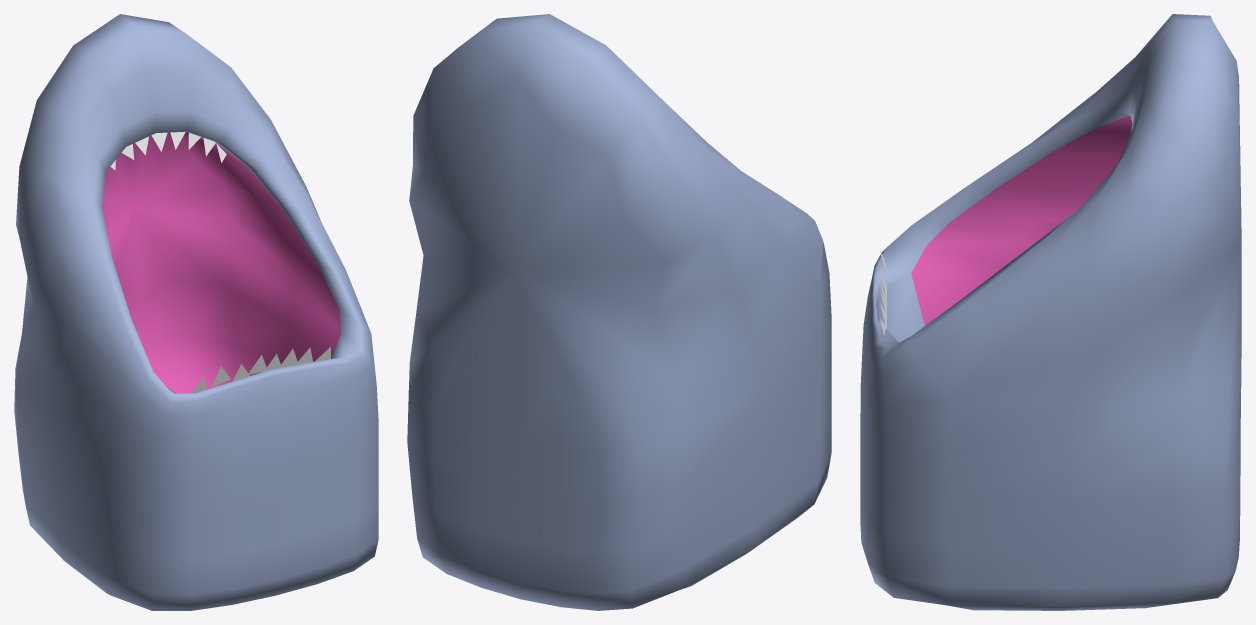
The model's file is liquid_target.gltf.
3 renders of one model, left to right at view 1: azimuth 30°, elevation 25°; view 2: azimuth 150°, elevation 25°; view 3: azimuth 270°, elevation 25°, orthographic. The views are drawn at different scales.
Visible parts, largest first — view 1: liquid_target; view 2: liquid_target; view 3: liquid_target.
Boxes of the visible parts, box(x1,y1,x2,y2) form: liquid_target: box(14, 14, 378, 610); liquid_target: box(407, 14, 831, 610); liquid_target: box(860, 14, 1241, 610).
Size of the model in its own units: 0.5516 by 0.9688 by 0.6164.
